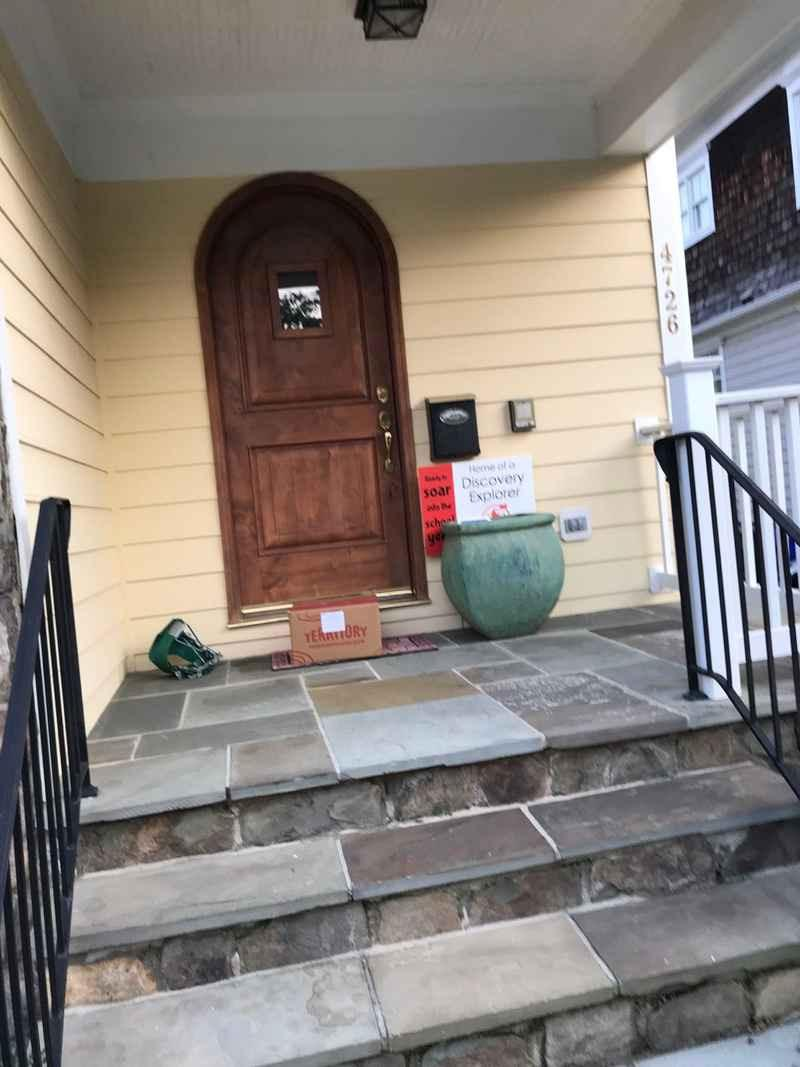package: (281, 593, 384, 669)
